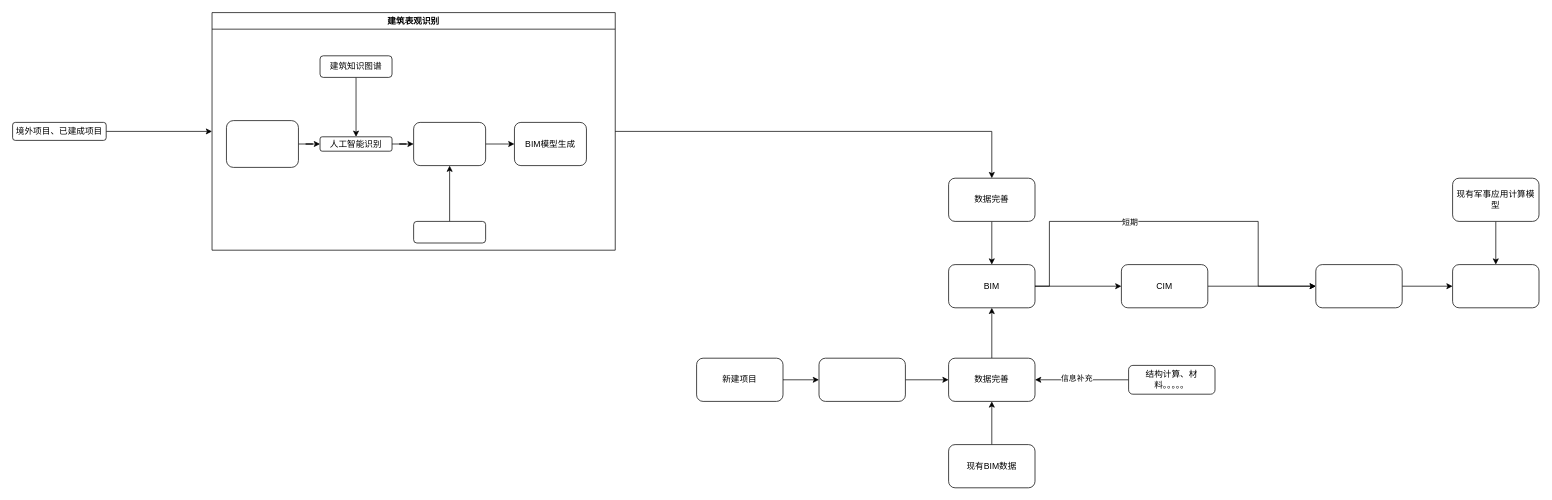
Image size: 1552x500. Some labels were removed from this diagram. The shapes that lost their labels are listed below. From the top down, each one's centre as x and y in pixels, then its label:
(x=262, y=143): 数据源：卫星影像，倾斜摄影。。。。
(x=449, y=144): 建立BIM模型参数化关系
(x=449, y=232): 人工干预
(x=1358, y=286): 提供军事分析所需的数据
(x=1495, y=286): 军事应用分析
(x=861, y=379): BIM标准
